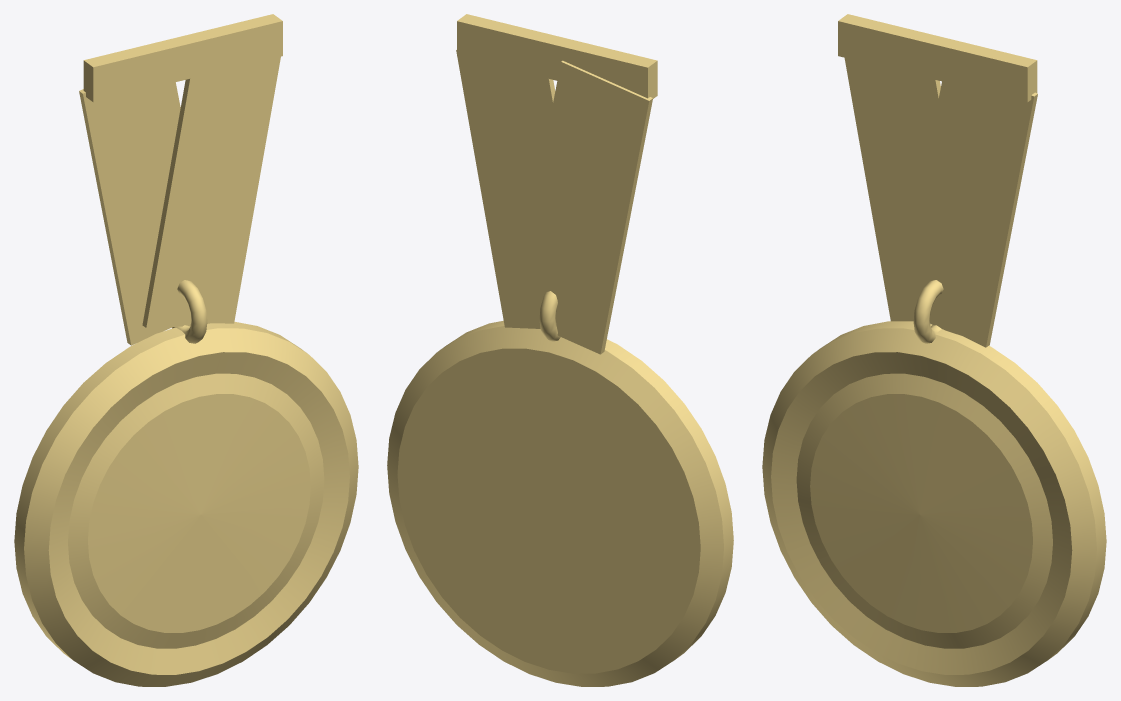
File: ribbon.glb
The picture shows the model from 3 angles, left to right: view 1: azimuth 30°, elevation 25°; view 2: azimuth 150°, elevation 25°; view 3: azimuth 330°, elevation 25°; orthographic projection.
Visible parts, largest first — view 1: ribbon; view 2: ribbon; view 3: ribbon.
Part boxes in pixels (bbox=[...]): ribbon: bbox=[14, 14, 358, 686]; ribbon: bbox=[387, 14, 733, 686]; ribbon: bbox=[762, 14, 1106, 686].
Bounding box in the file's own units: 0.6 × 1.09 × 0.106.
